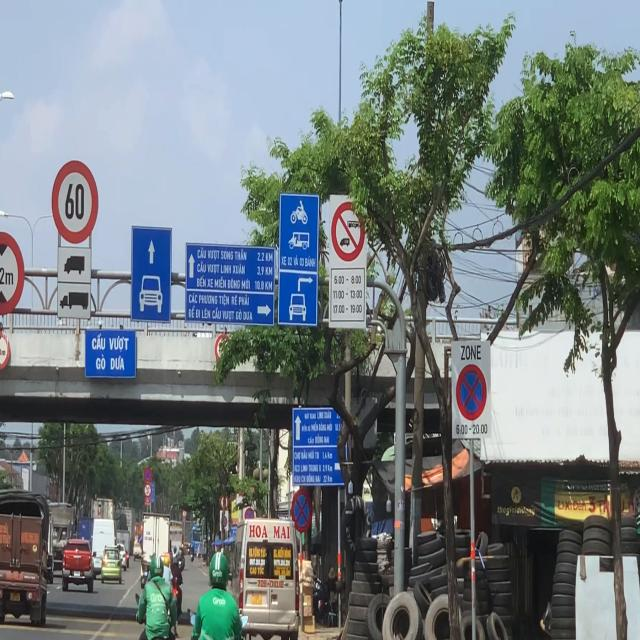Cam con lai: (331, 198, 365, 264)
Cam dung va do: (455, 363, 488, 422), (290, 488, 314, 534)
Chieu cao toi da: (0, 220, 28, 321), (0, 329, 11, 390)
Toc do toi da: (46, 146, 105, 243)
